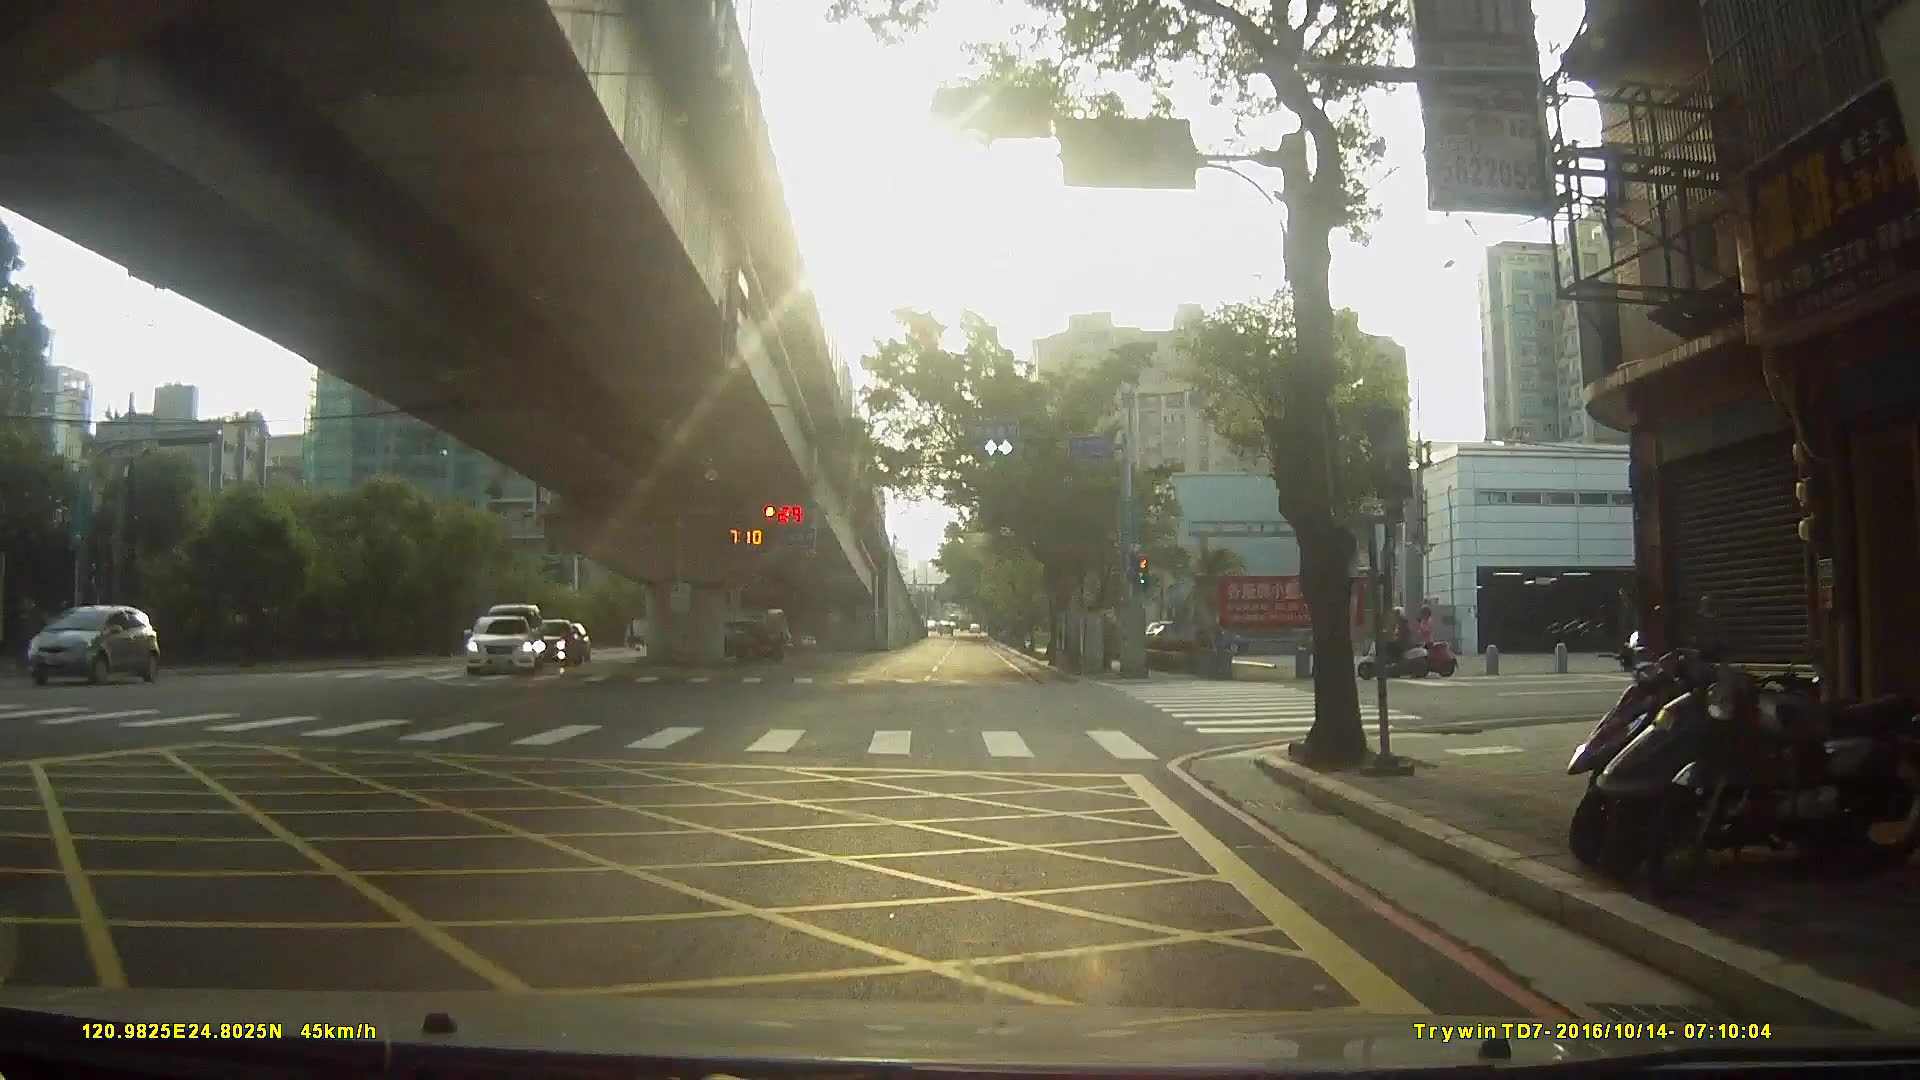rider: (1361, 605, 1433, 680)
vehicle: (8, 599, 171, 685), (457, 610, 534, 675), (696, 614, 787, 662), (518, 616, 580, 664)
